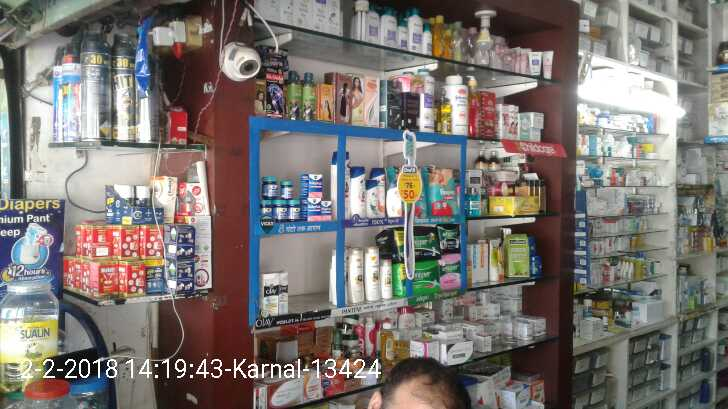beauty: (361, 246, 381, 304), (346, 166, 367, 219), (258, 271, 278, 315), (347, 250, 363, 305), (381, 173, 400, 215), (363, 179, 380, 219), (377, 263, 396, 294), (276, 275, 290, 317)
pharmacy: (429, 167, 463, 219), (412, 255, 438, 297), (439, 254, 464, 290), (411, 223, 435, 256), (435, 224, 462, 249), (298, 172, 322, 193), (300, 193, 318, 219), (263, 171, 277, 199), (277, 180, 296, 200), (262, 201, 276, 222), (315, 198, 332, 215), (274, 200, 285, 224), (287, 204, 298, 221)
